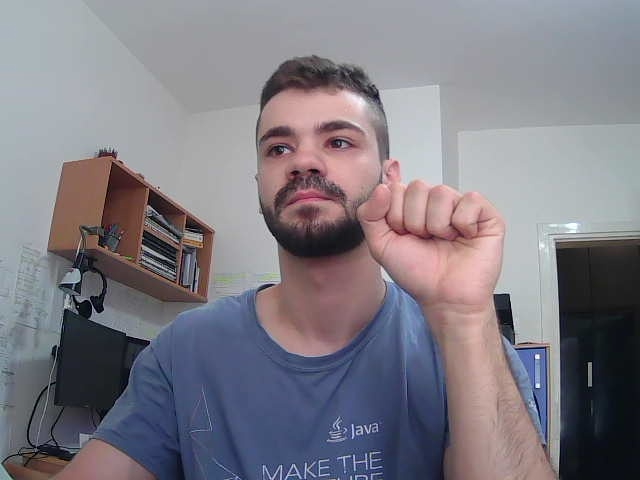a: (348, 166, 515, 318)
